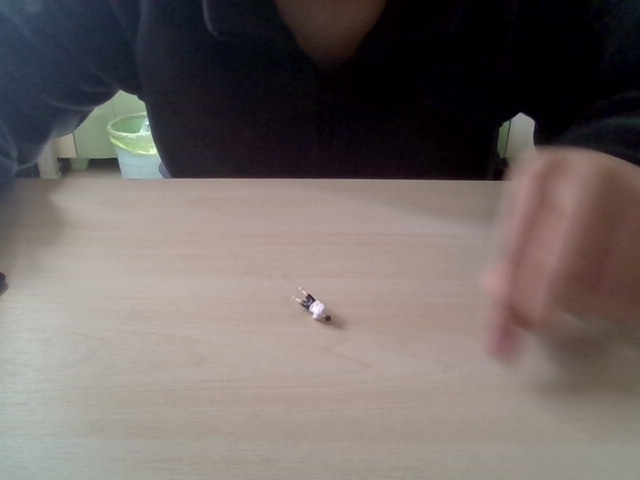fall: (287, 282, 339, 331)
